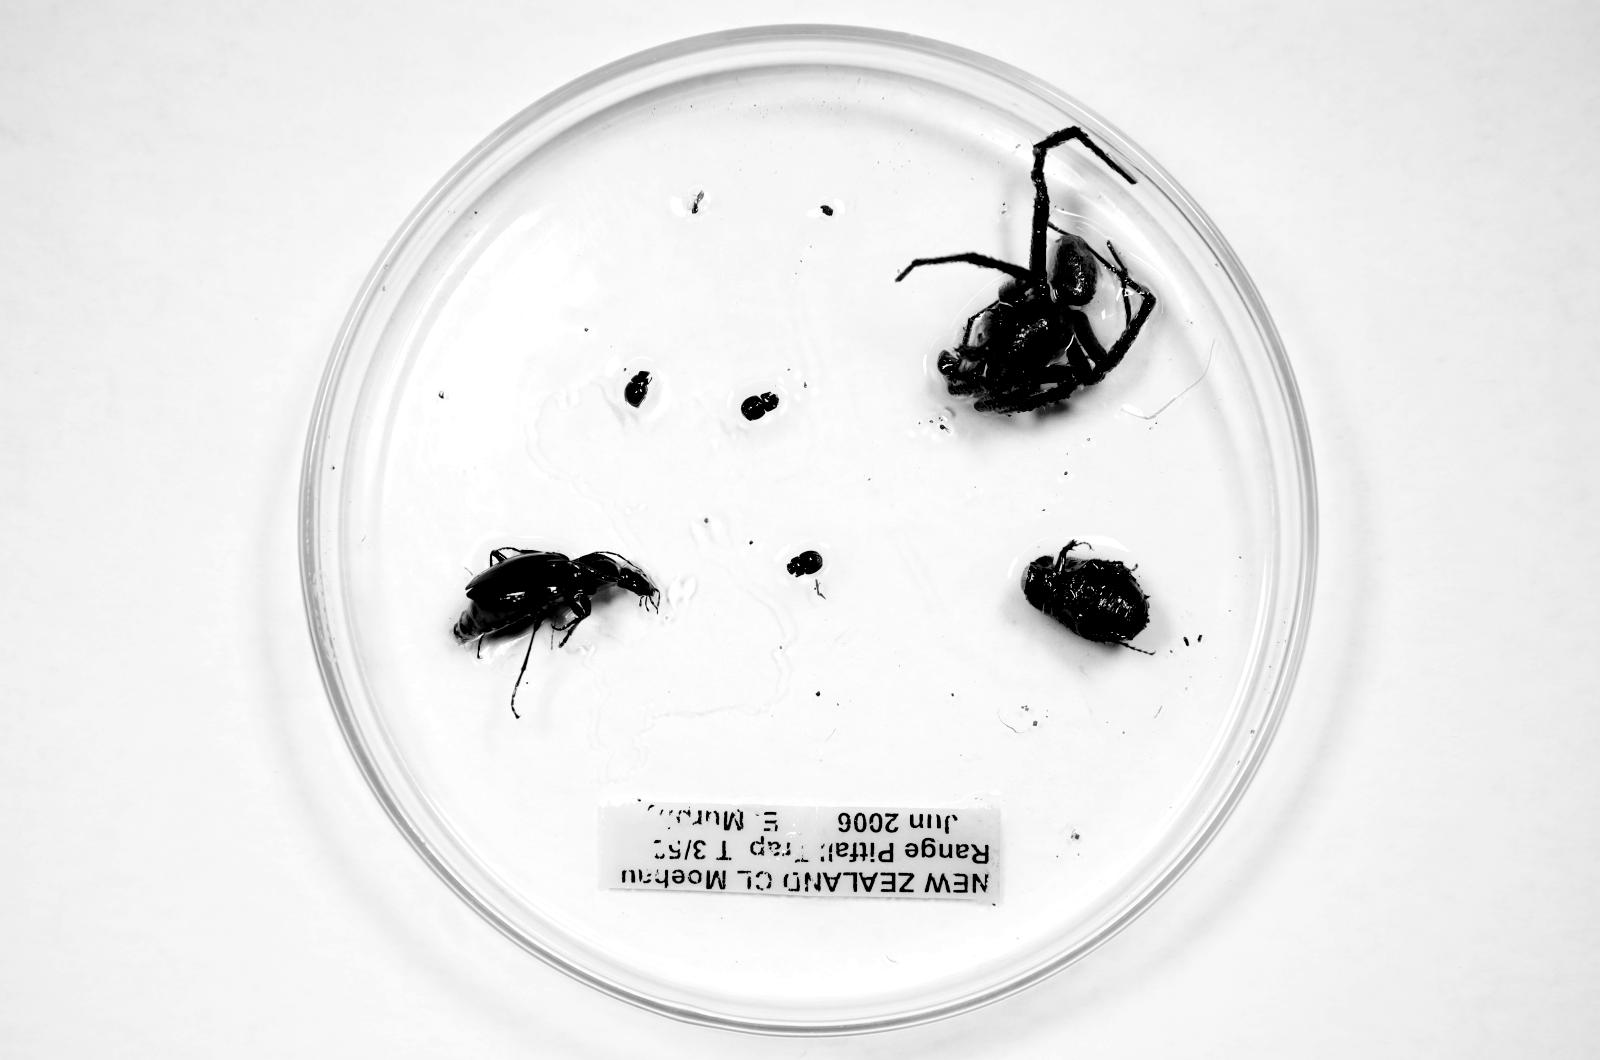araneae: (895, 127, 1157, 413)
carabidae: (453, 548, 660, 653)
coleoptera: (1022, 539, 1149, 648), (740, 392, 779, 421), (623, 370, 652, 408), (786, 550, 823, 577)
